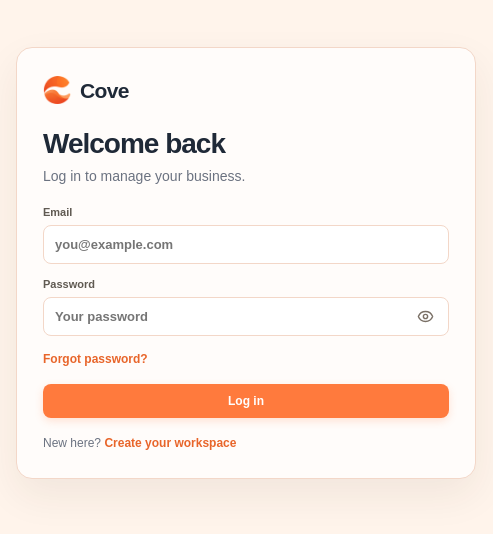
it: LoginPage cold-start handling › retries at most twice, then shows a helpful unavailable message
Type " seller@example.com " into the field named "email".
click(246, 244); type(" seller@example.com ")  # box [43,225,449,264]
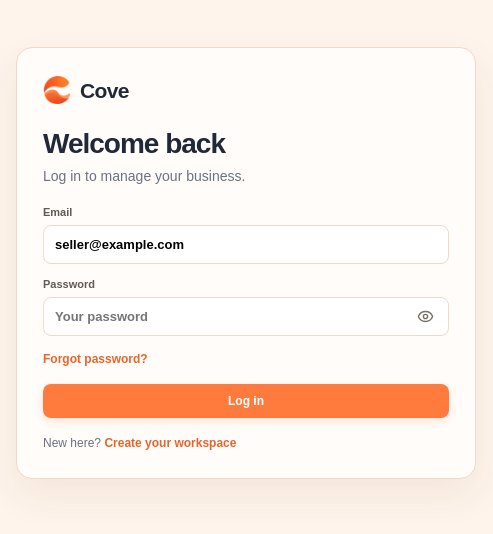
Type "secret123" into the password field named "password".
click(246, 316); type("secret123")  # box [43,297,449,336]
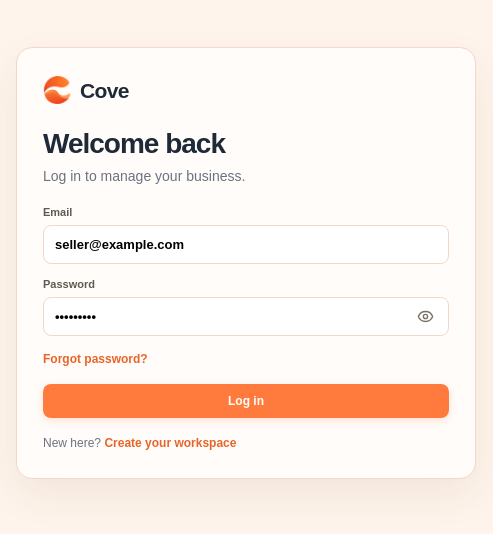
Click the button "Log in".
click(246, 401)  # box [43,384,449,418]
Wait 14500 ms
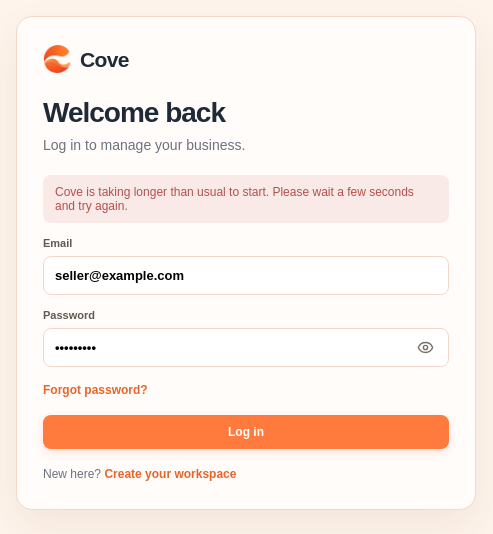
Expected: the button "Log in" is enabled, [43,415,449,449]
Result: the message shows "Cove is taking longer than usual to start. Please wait a few seconds and try again." at [55,185,414,213]
